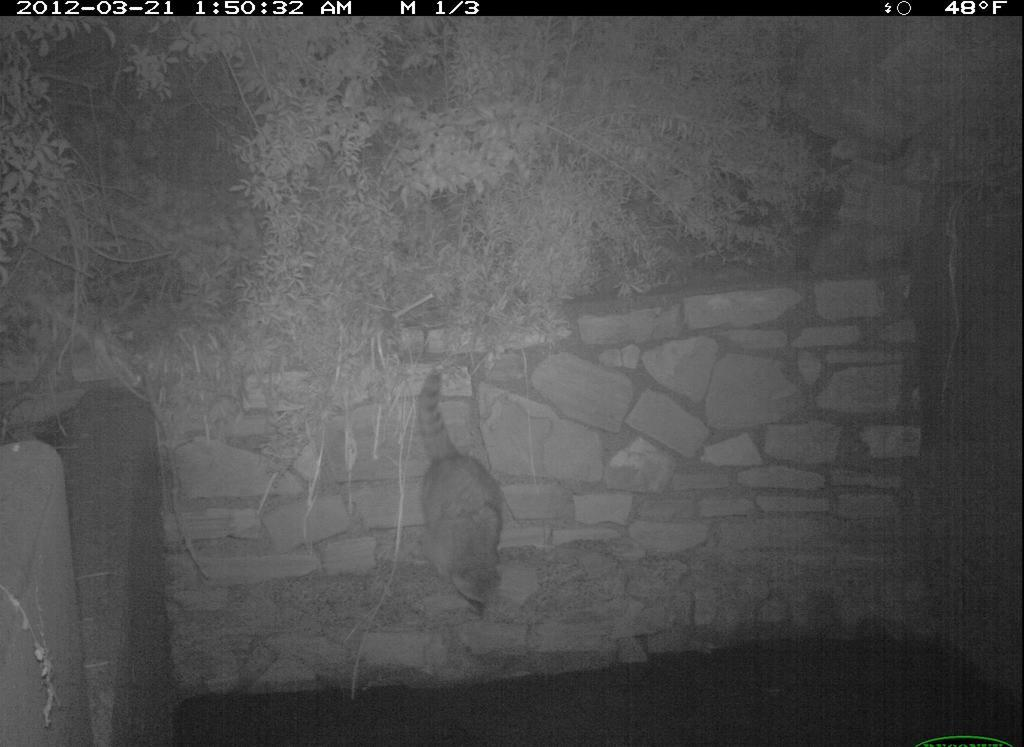raccoon: (404, 367, 519, 632)
